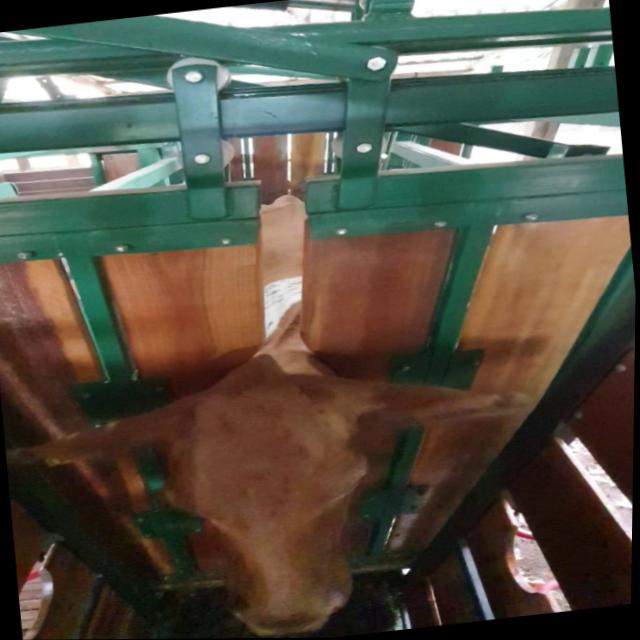cowFace: (150, 376, 382, 639)
